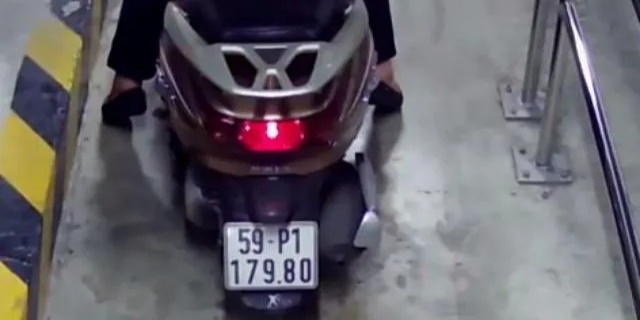bien_so: (222, 218, 319, 290)
